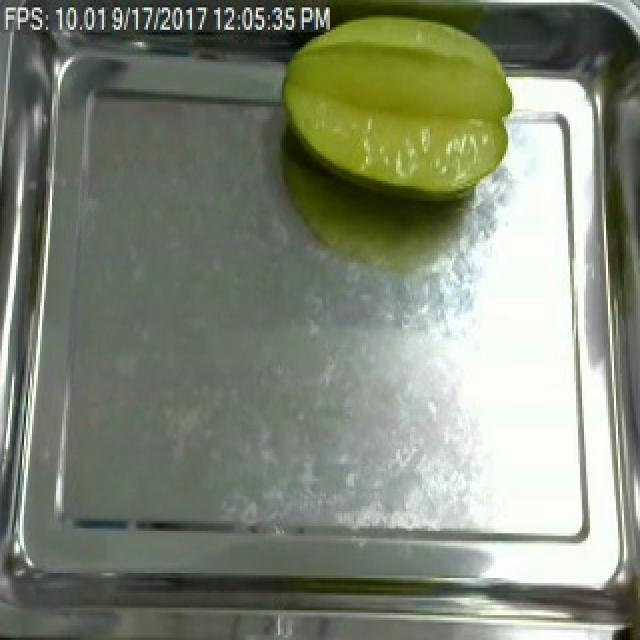fruit: (270, 2, 520, 204)
